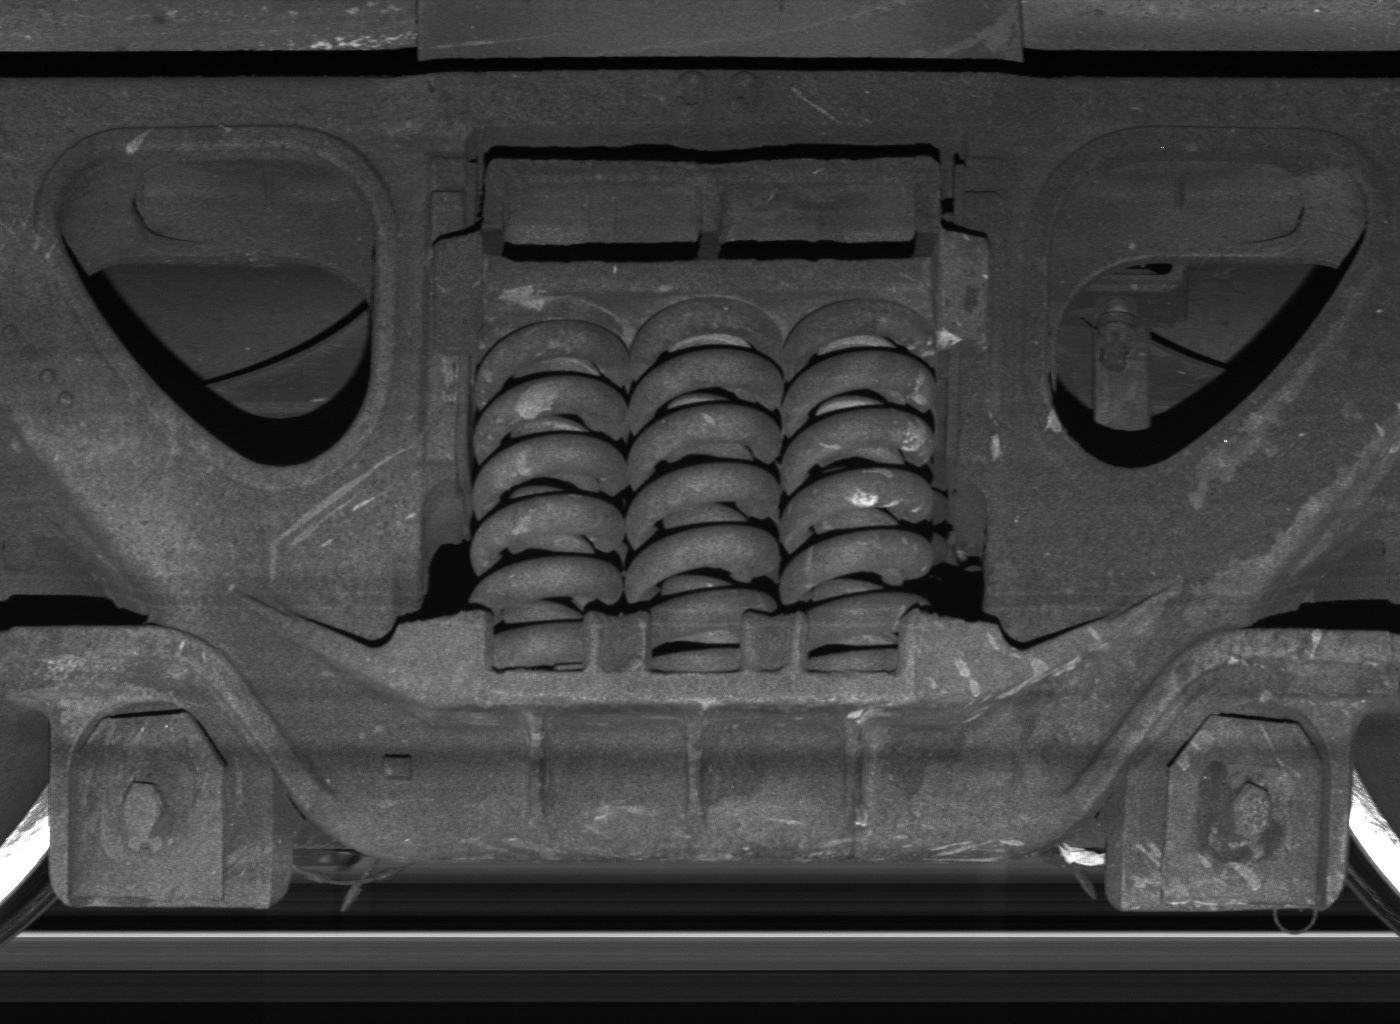normal: (1123, 704, 1351, 912), (47, 704, 273, 907)
